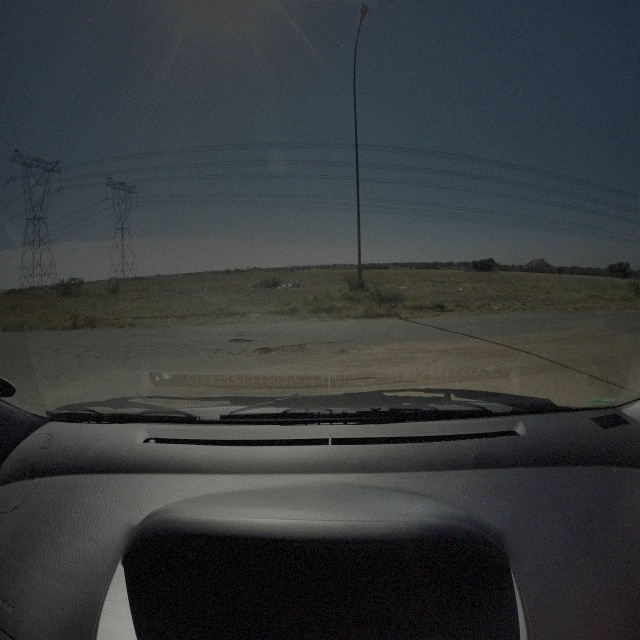pothole: (255, 344, 306, 358), (230, 335, 252, 345)
